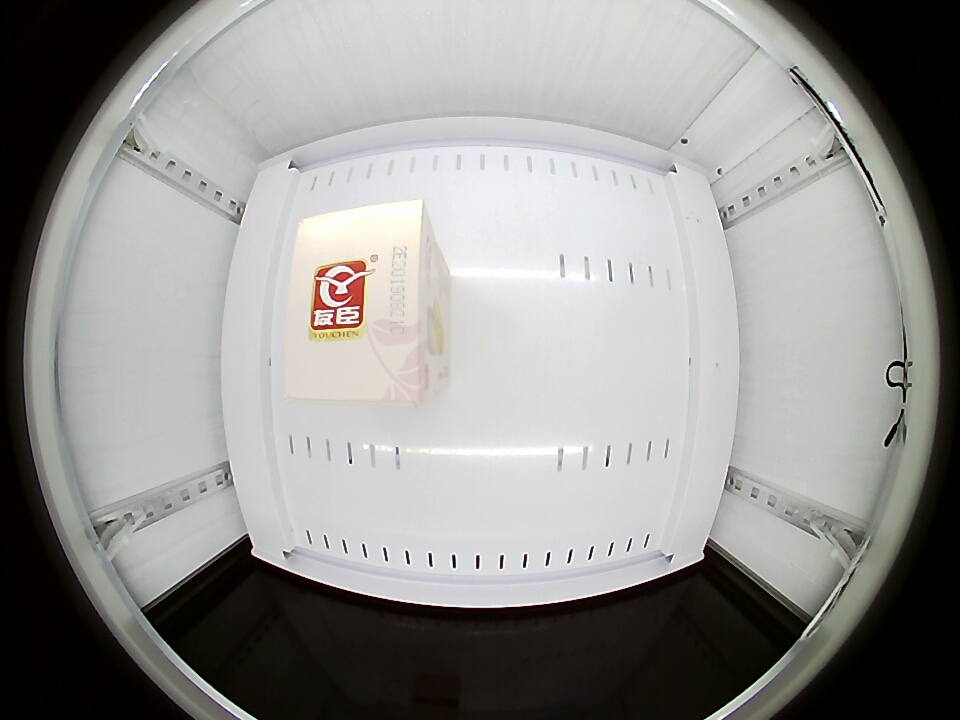rousongbing: (291, 199, 442, 403)
